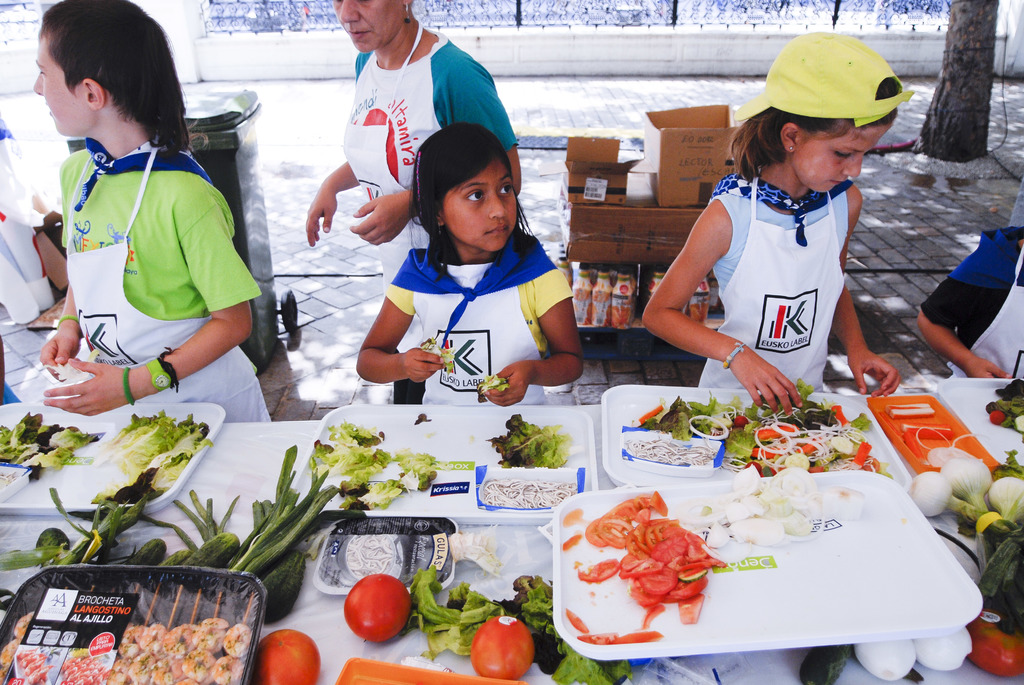Human_hand: (37, 347, 129, 414), (729, 343, 804, 418), (348, 189, 414, 247), (36, 320, 85, 383), (847, 346, 902, 402), (480, 359, 534, 409), (304, 180, 339, 249), (400, 346, 448, 384), (966, 358, 1015, 379)
